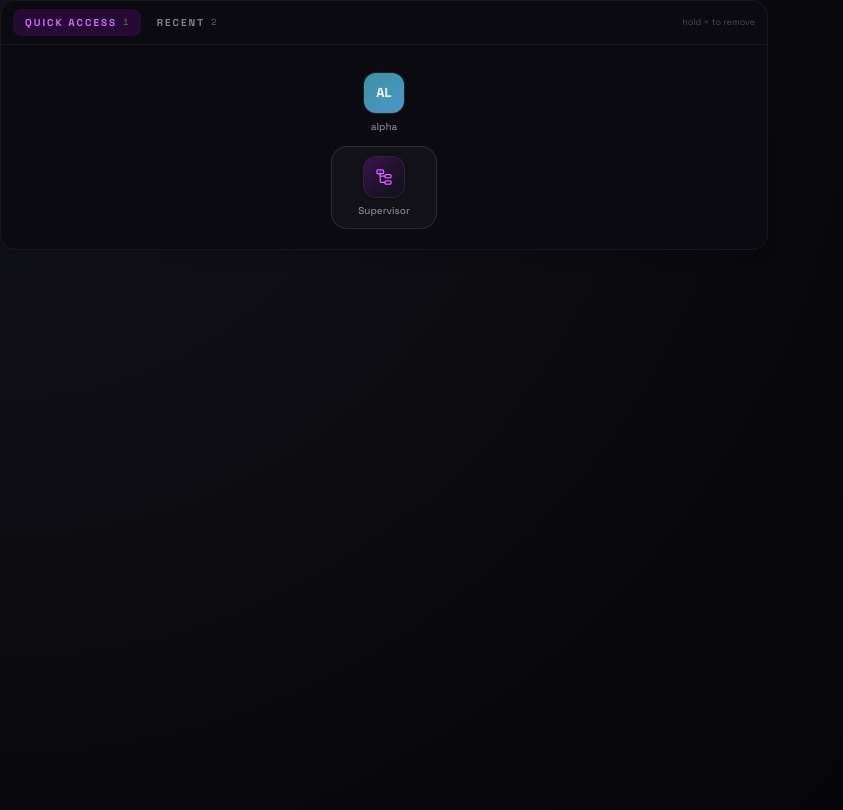
Test: ProjectSwitcher › keeps the hold-to-remove hint in the header, on the tab it belongs to
Expected: the text "hold × to remove" is shown, [682, 16, 755, 29]
Click the tab with test id "project-switcher-tab-recent".
click(187, 22)  # box [145, 9, 229, 36]
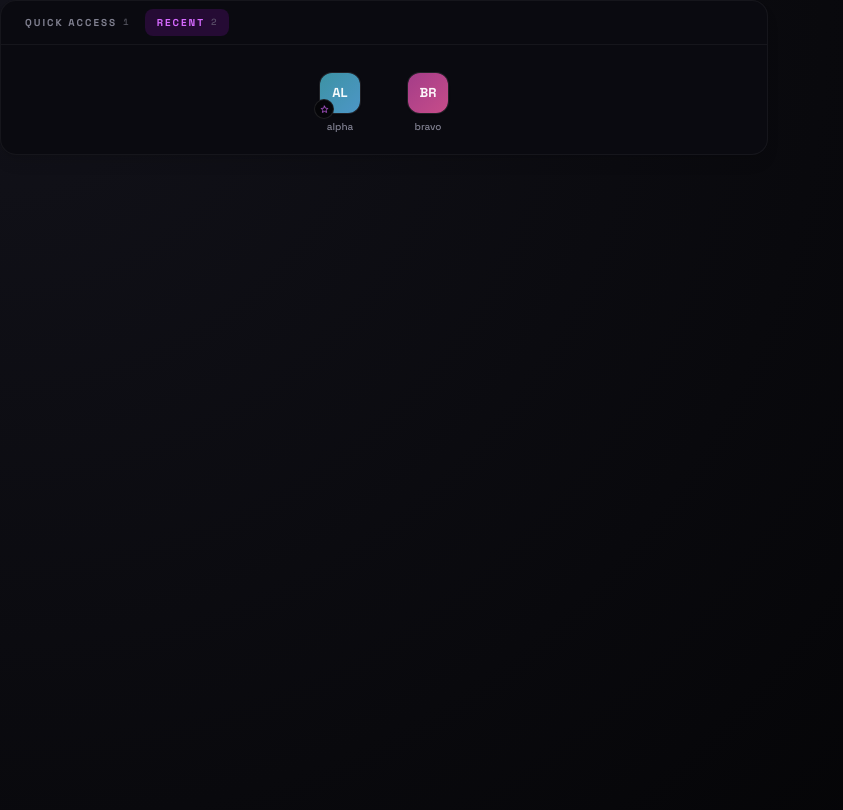
Expected: the text with test id "quick-access-hint" is gone
